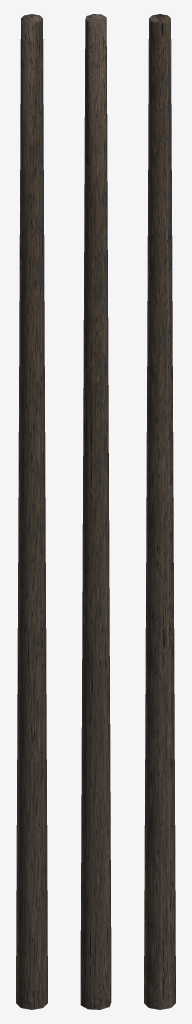
Rendered from pole_wood_a_lod_1.glb.
3 views of the same model, side by side, from view 1: azimuth 90°, elevation 25°; view 2: azimuth 150°, elevation 25°; view 3: azimuth 270°, elevation 25° (orthographic).
Visible parts, largest first — view 1: pole_wood_a_lod_1; view 2: pole_wood_a_lod_1; view 3: pole_wood_a_lod_1.
Part boxes in pixels (x1,y1,x2,y2): pole_wood_a_lod_1: (16, 14, 47, 1009); pole_wood_a_lod_1: (80, 14, 111, 1009); pole_wood_a_lod_1: (144, 14, 175, 1009).
Size of the model in its own units: 0.3 by 10.2 by 0.3.
Materials: 1 (1 with a texture image).
